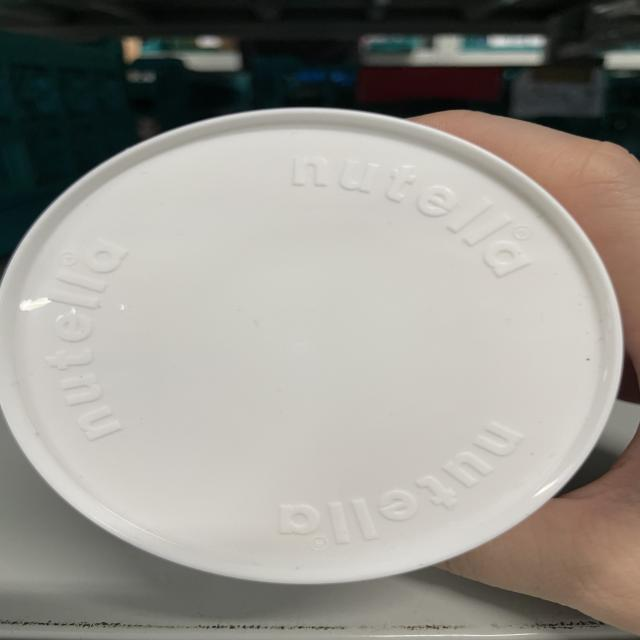object_name: (17, 110, 626, 591)
